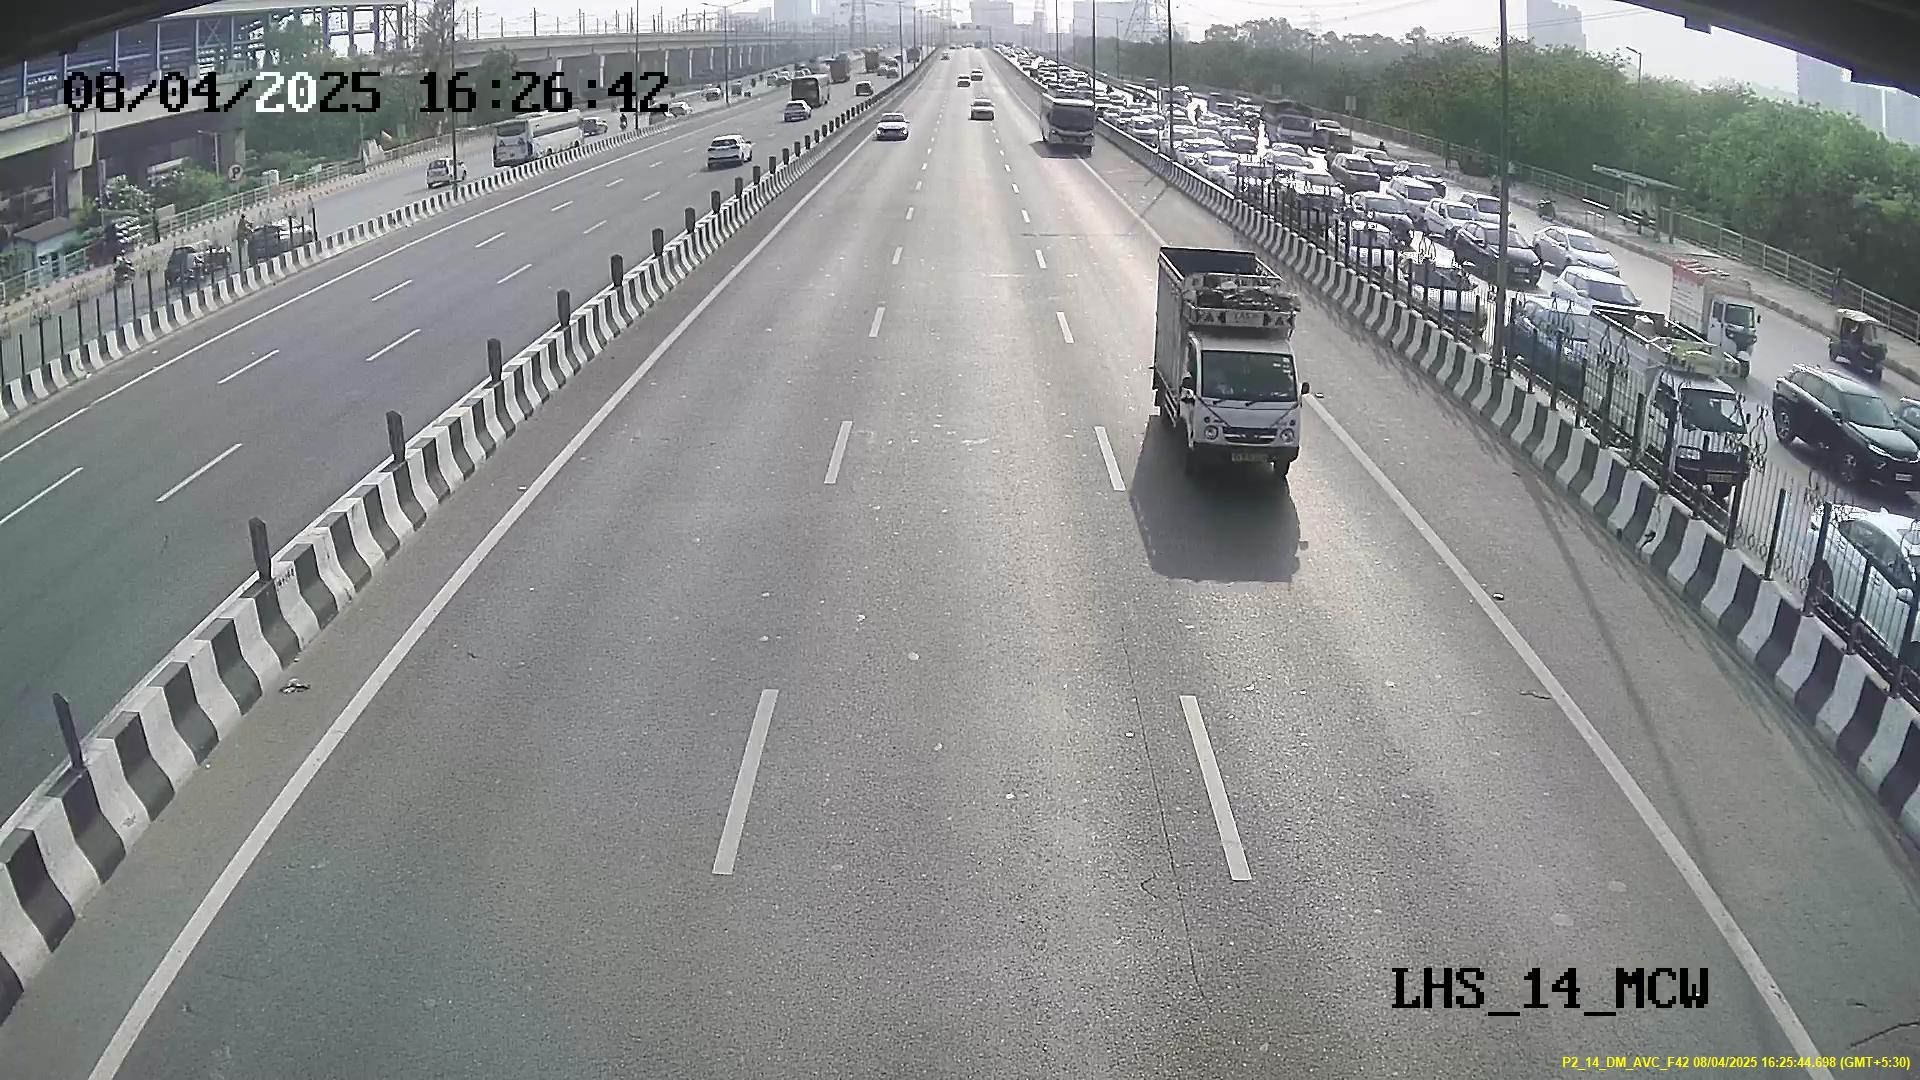car: (1174, 306, 1307, 471)
